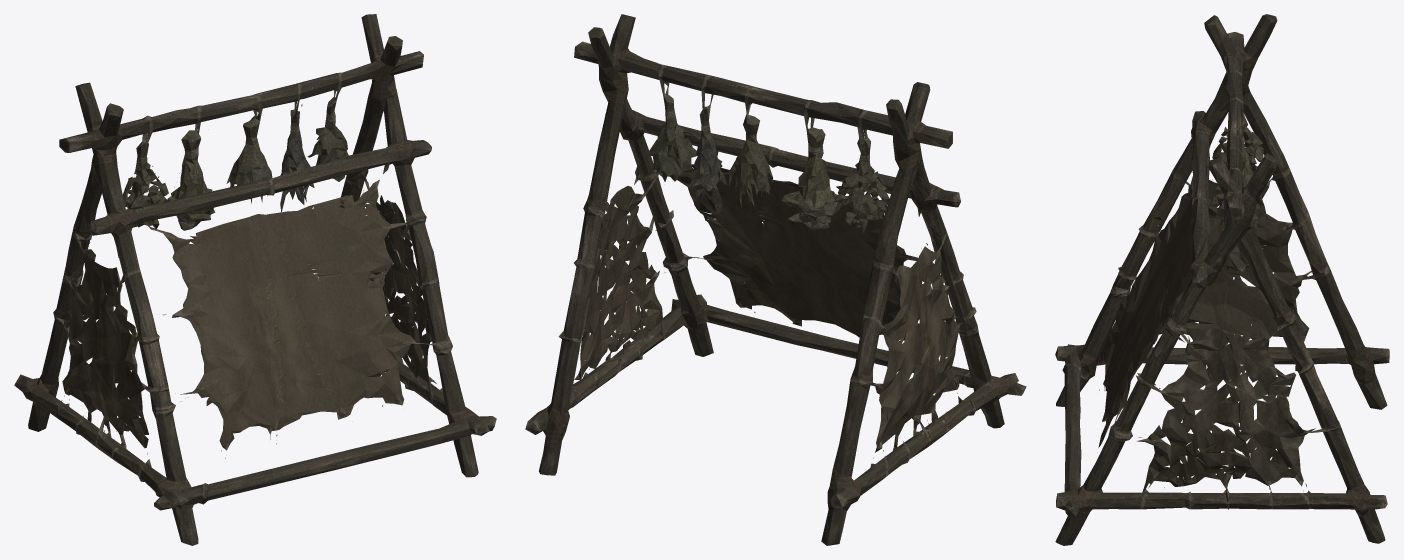
File: hide_rack.glb
3 renders of one model, left to right at view 1: azimuth 30°, elevation 25°; view 2: azimuth 150°, elevation 25°; view 3: azimuth 270°, elevation 25°, orthographic. The views are drawn at different scales.
Visible parts, largest first — view 1: lo; view 2: lo; view 3: lo.
Part boxes in pixels (x1,y1,x2,y2): lo: (14, 14, 496, 545); lo: (525, 14, 1026, 545); lo: (1055, 14, 1389, 545).
Size of the model in its own units: 2.23 by 2.3 by 1.79.
1 material, 1 textured.
